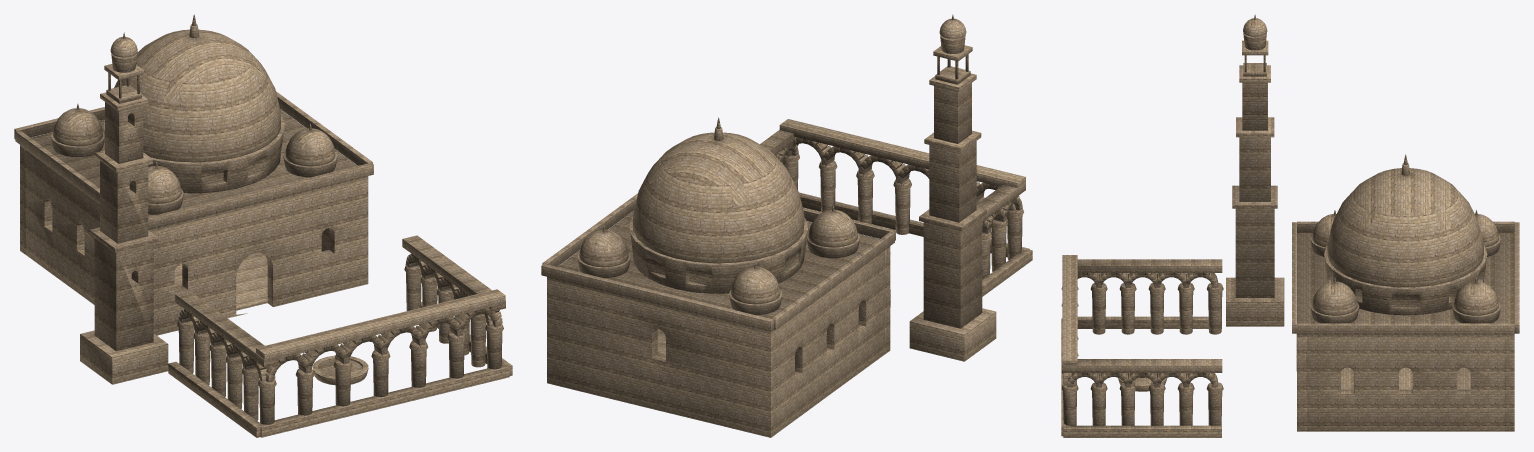
File: m_mosque.glb
The picture shows the model from 3 angles, left to right: view 1: azimuth 30°, elevation 25°; view 2: azimuth 150°, elevation 25°; view 3: azimuth 270°, elevation 25°; orthographic projection. The views are drawn at different scales.
Parts seen in each view (by area): view 1: mosque; view 2: mosque; view 3: mosque.
Boxes of the visible parts, <box> form: mosque: <box>14,14,512,437</box>; mosque: <box>541,14,1032,437</box>; mosque: <box>1061,14,1519,437</box>.
Bounding box in the file's own units: 35.45 × 36.55 × 50.5.
Materials: 1 (1 with a texture image).
